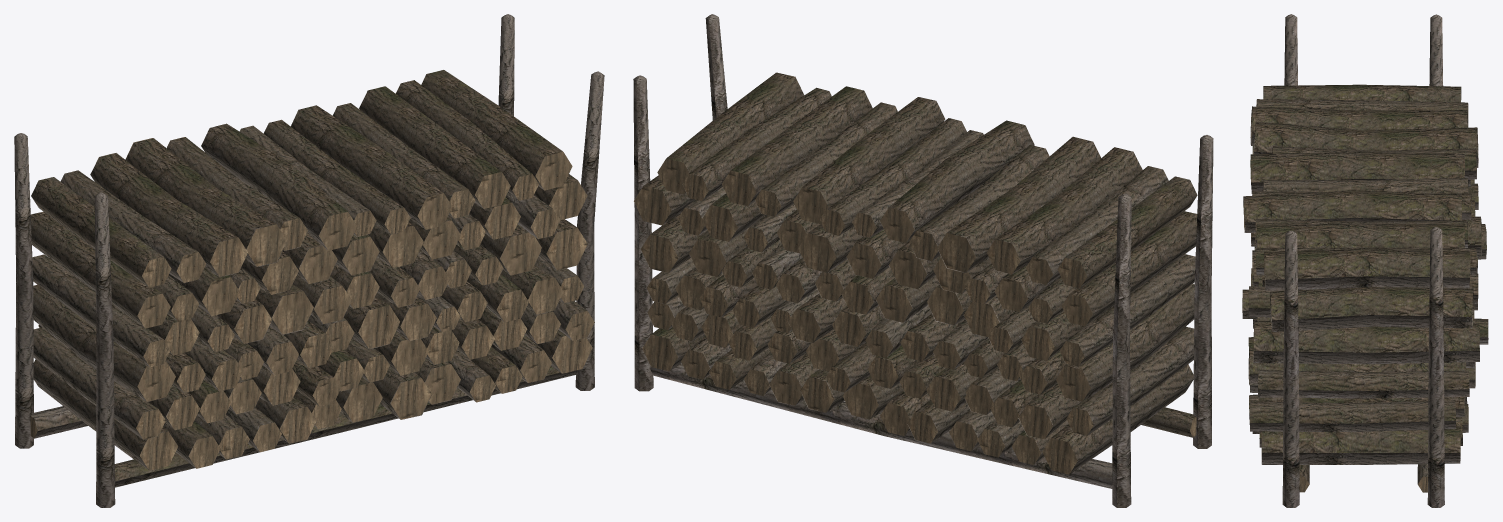
File: kit_tw_cordwood.glb
3 renders of one model, left to right at view 1: azimuth 30°, elevation 25°; view 2: azimuth 150°, elevation 25°; view 3: azimuth 270°, elevation 25°, orthographic. The views are drawn at different scales.
Visible parts, largest first — view 1: kit_tw_cordwood; view 2: kit_tw_cordwood; view 3: kit_tw_cordwood.
Boxes of the visible parts, x1,y1,x2,y2 form: kit_tw_cordwood: (14, 14, 604, 507); kit_tw_cordwood: (633, 14, 1213, 507); kit_tw_cordwood: (1242, 14, 1488, 507).
Size of the model in its own units: 2.45 by 1.45 by 1.15.
Materials: 1 (1 with a texture image).
